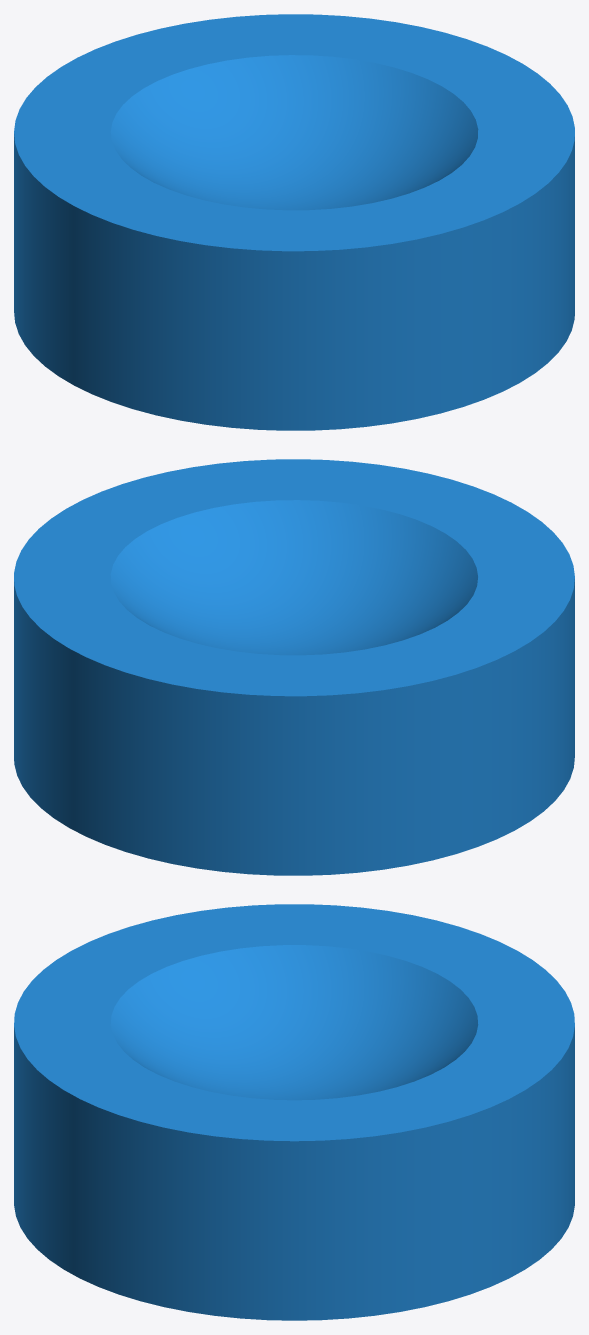
Rendered from alt_copo.glb.
3 views of the same model, one above another, from view 1: azimuth 30°, elevation 25°; view 2: azimuth 150°, elevation 25°; view 3: azimuth 270°, elevation 25° (orthographic).
Parts seen in each view (by area): view 1: alt_copo; view 2: alt_copo; view 3: alt_copo.
Boxes of the visible parts, <box> form: alt_copo: <box>14,14,574,430</box>; alt_copo: <box>14,459,574,875</box>; alt_copo: <box>14,904,574,1320</box>.
Bounding box in the file's own units: 33.98 × 12 × 33.99.
